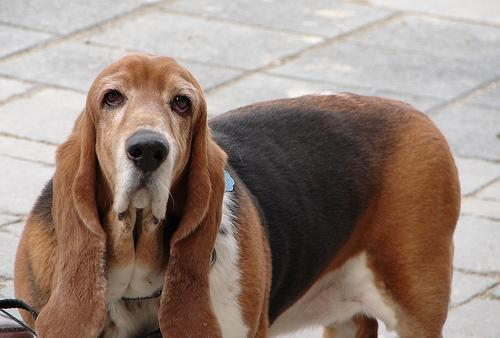dog-basset_hound: (32, 52, 266, 336)
